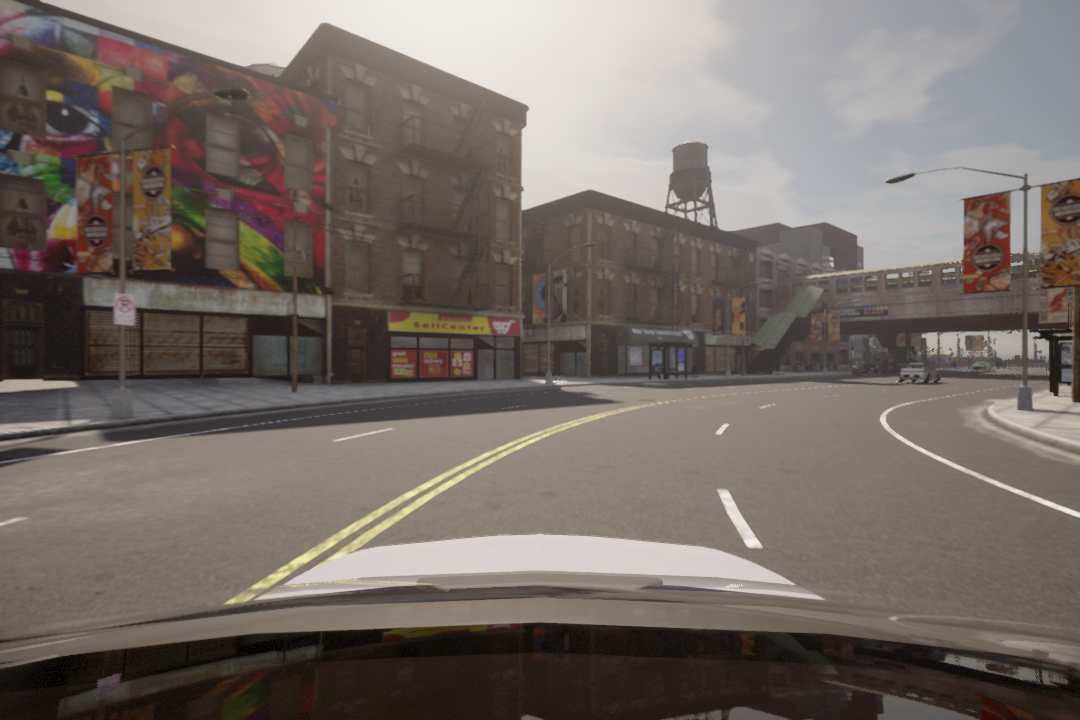TrafficSign_nstop: (114, 294, 137, 327)
